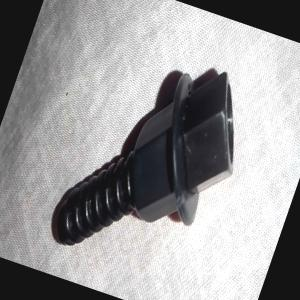parafuso: (47, 33, 264, 290)
